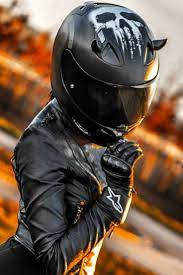com_capacete: (49, 1, 154, 140)
